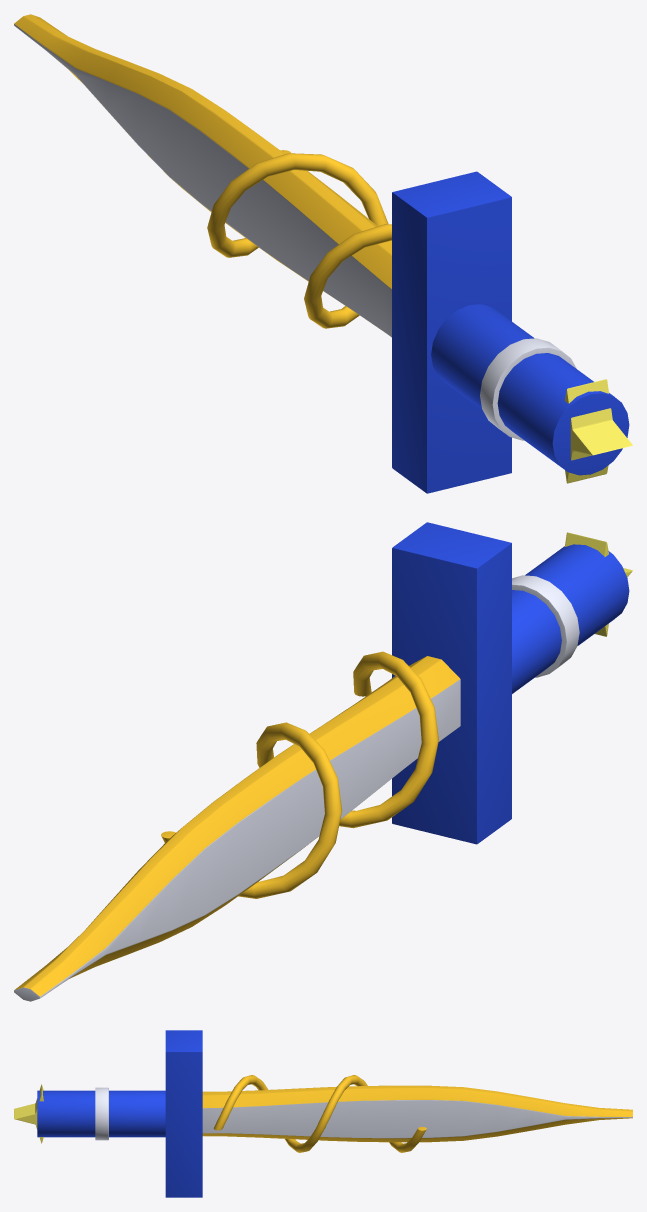
The model's file is Sword_SparkwireShiv.glb.
The picture shows the model from 3 angles, top to bottom: view 1: azimuth 30°, elevation 25°; view 2: azimuth 150°, elevation 25°; view 3: azimuth 270°, elevation 25°; orthographic projection. The views are drawn at different scales.
Parts seen in each view (by area): view 1: Sword_SparkwireShiv; view 2: Sword_SparkwireShiv; view 3: Sword_SparkwireShiv.
Part boxes in pixels (box(x1,y1,x2,y2)): Sword_SparkwireShiv: box(14, 14, 632, 493); Sword_SparkwireShiv: box(14, 522, 632, 1001); Sword_SparkwireShiv: box(14, 1030, 632, 1197).
Size of the model in its own units: 0.1257 by 0.2601 by 1.
1 material, 1 textured.
